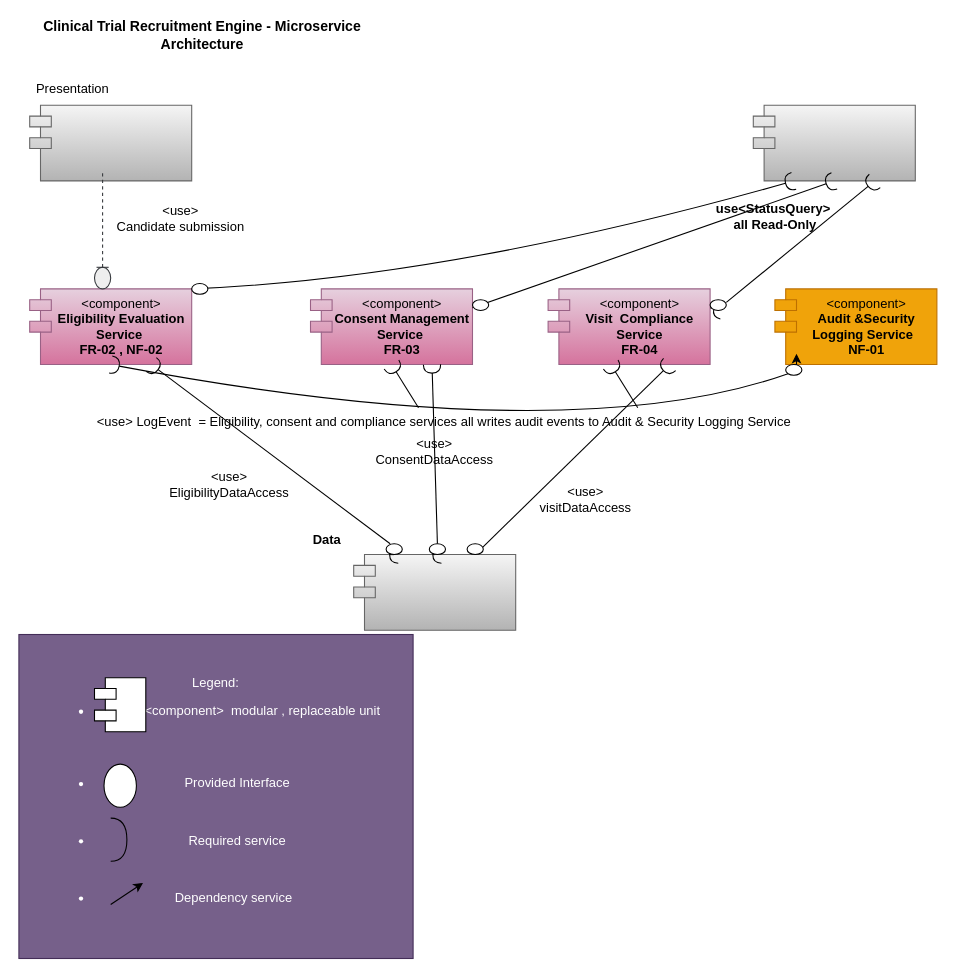
This 956x977 diagram has some shape labels left out. The shapes that lost their labels are listed below. From the top down, each one's box as (x1, y1, x2, y2) in pixels, then its label:
(29, 104, 192, 181): <component> Candidate Service Portal FR-01
(752, 104, 915, 181): <component> Researcher Dashboard Service FR-05
(353, 554, 516, 630): <component> Trail Data Storage Candidate, consent, visite
